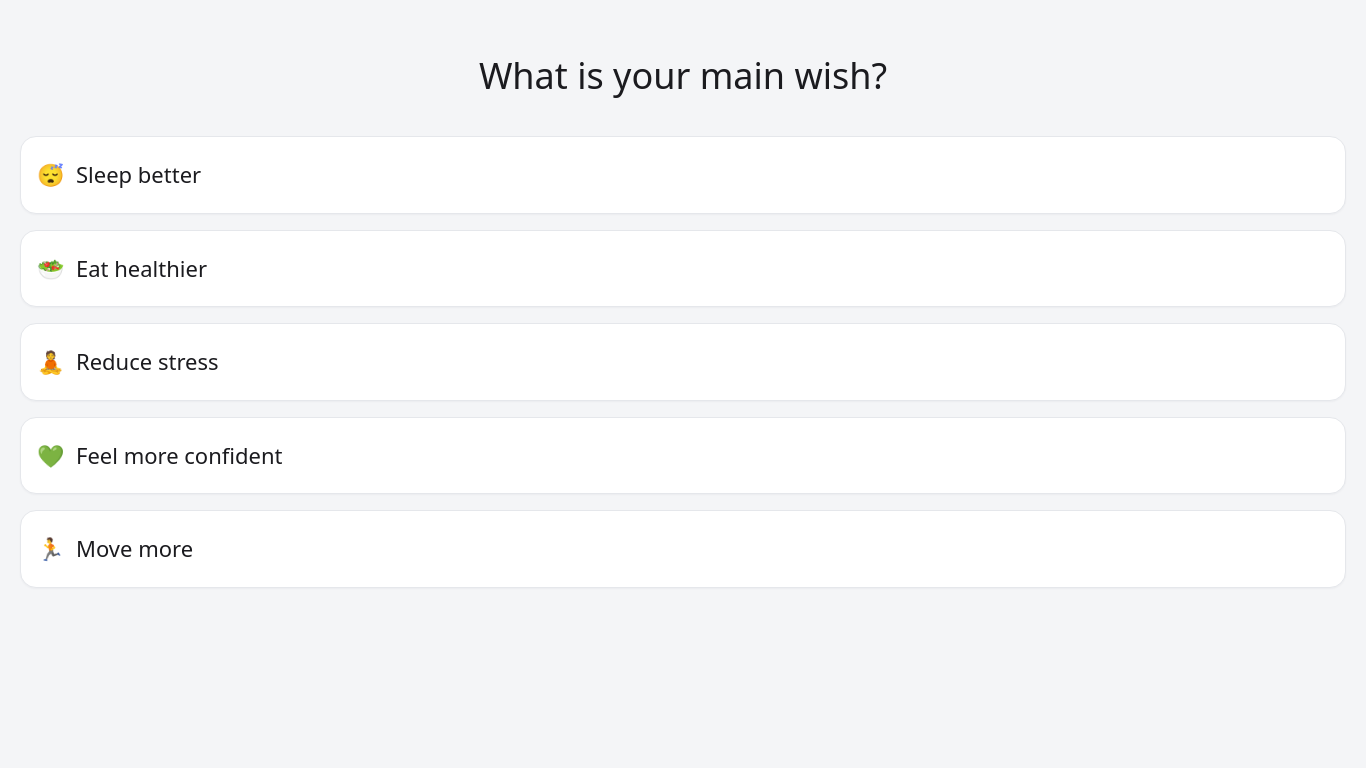
Test: WishPage › shows Continue after an option is selected
Click the radio button labelled "Sleep better" at point(139, 174), box [20,136,1346,214]
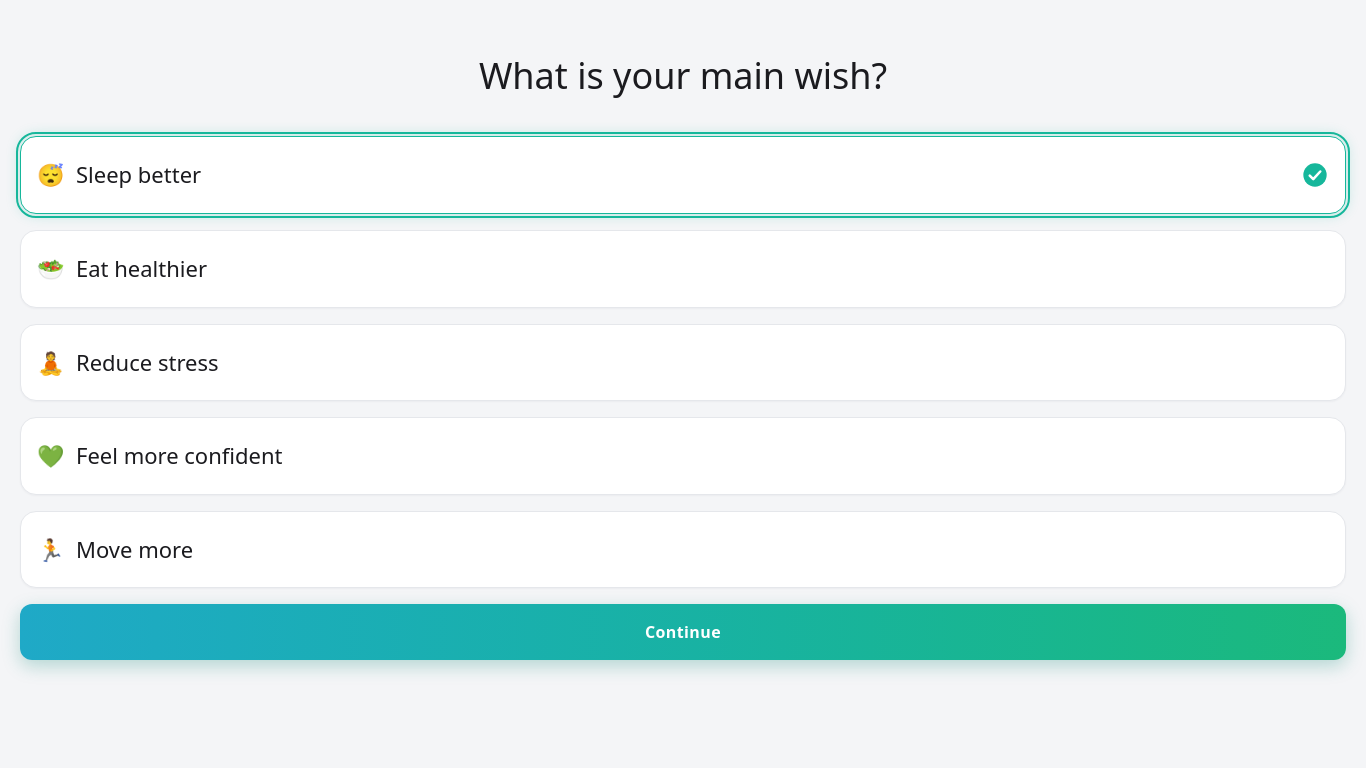
Result: the button "Continue" is shown at [20,604,1346,660]
